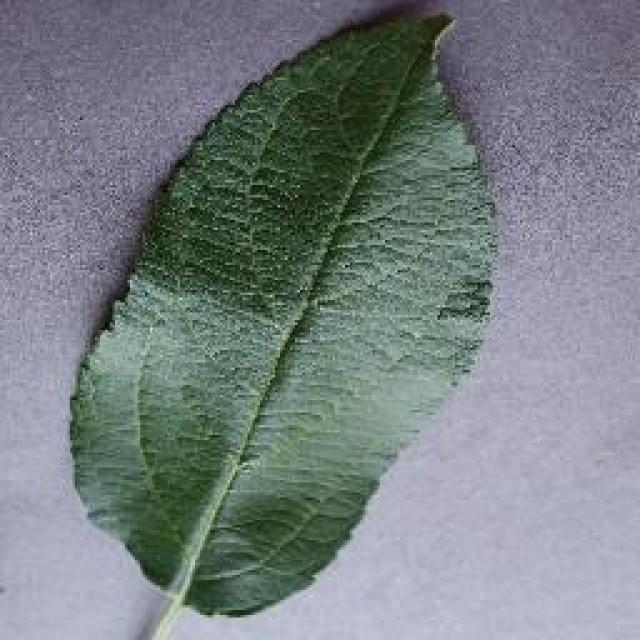apple healthy: (65, 2, 503, 632)
